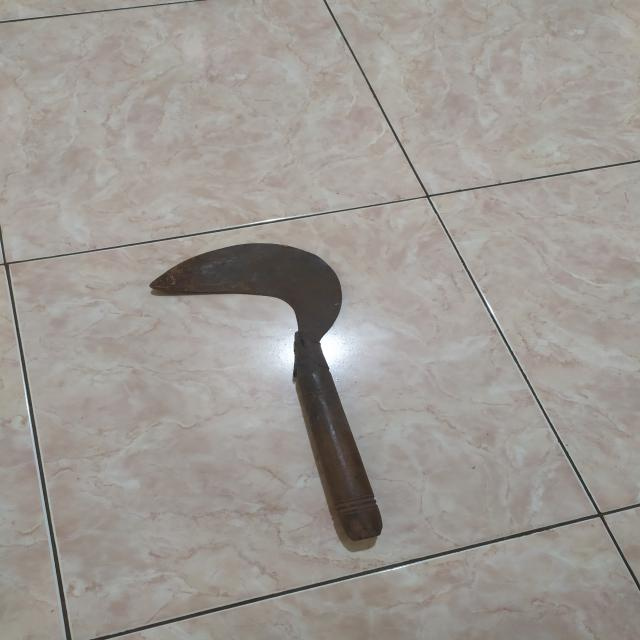Celurit: (157, 243, 383, 540)
